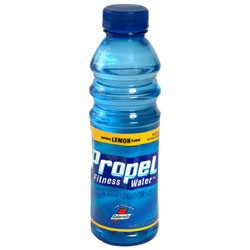grozi_56: (88, 4, 160, 246)
